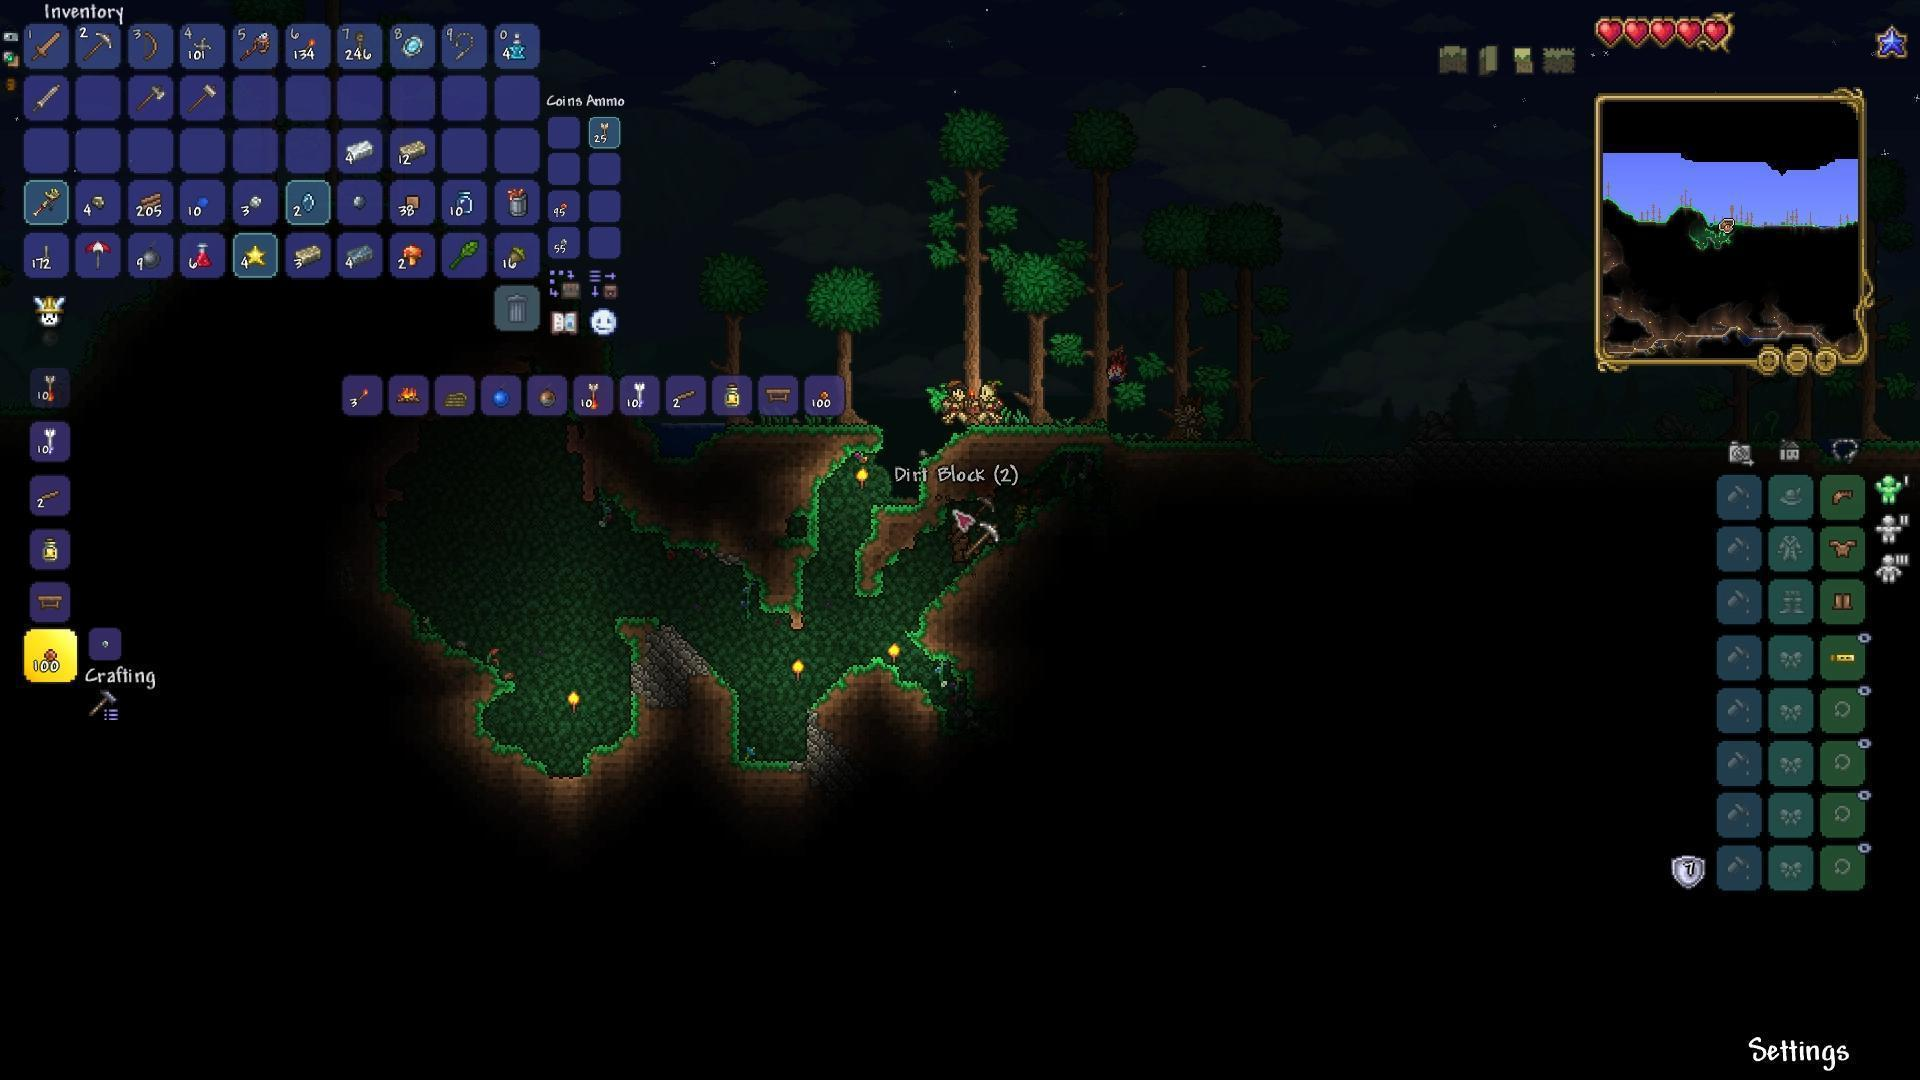arrow: (42, 368, 59, 404), (44, 427, 61, 458)
axe: (135, 82, 169, 112)
bomb: (141, 245, 164, 269)
bow: (140, 28, 158, 65)
breastplate: (1829, 537, 1858, 559)
eye: (1106, 352, 1133, 389)
gel: (193, 193, 214, 211)
heart: (1648, 17, 1677, 50), (1623, 16, 1651, 50), (1594, 17, 1625, 47), (1702, 17, 1727, 47), (1679, 18, 1702, 47)
helmet: (1830, 488, 1855, 509)
knife: (42, 240, 51, 269)
legs: (1829, 589, 1857, 615)
lens: (301, 191, 318, 214)
pickaxe: (80, 30, 115, 65)
rope: (353, 30, 369, 65)
shuriken: (193, 36, 212, 55)
zombie: (936, 372, 972, 433), (972, 376, 1007, 433)
